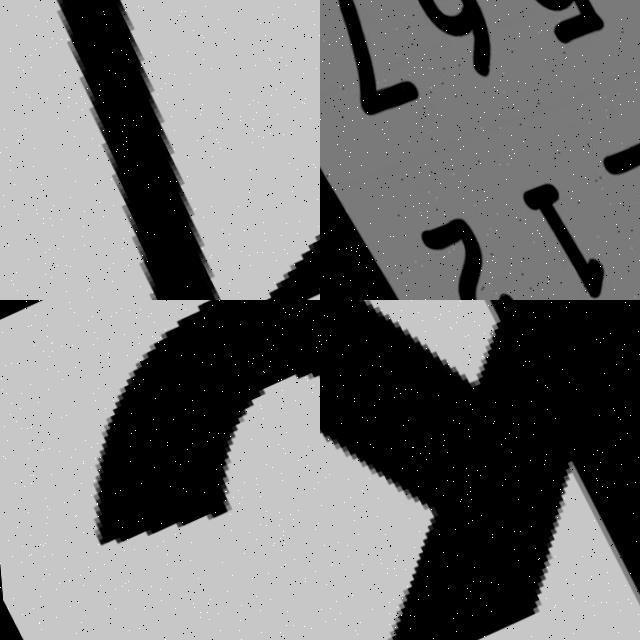1: (0, 0, 320, 300), (492, 159, 628, 300)
2: (373, 174, 541, 300)
5: (463, 0, 636, 89)
6: (371, 0, 541, 124)
7: (320, 0, 438, 155)
C: (87, 300, 320, 544)
K: (320, 300, 640, 640)
